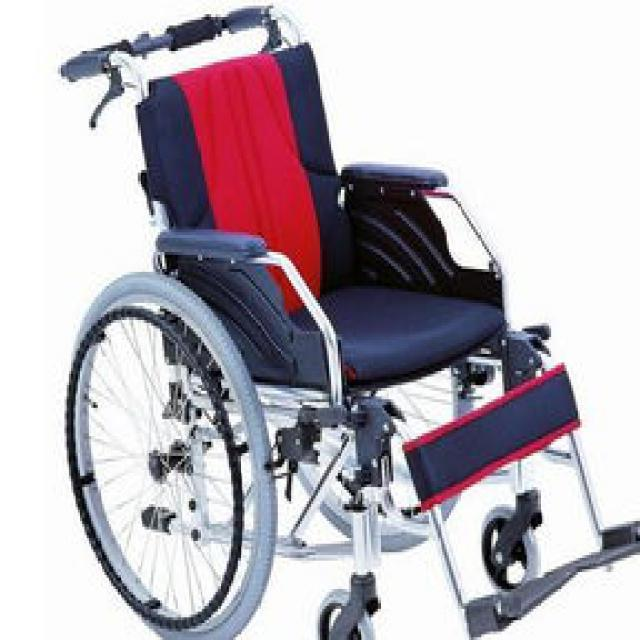wheelchair: (51, 0, 638, 637)
